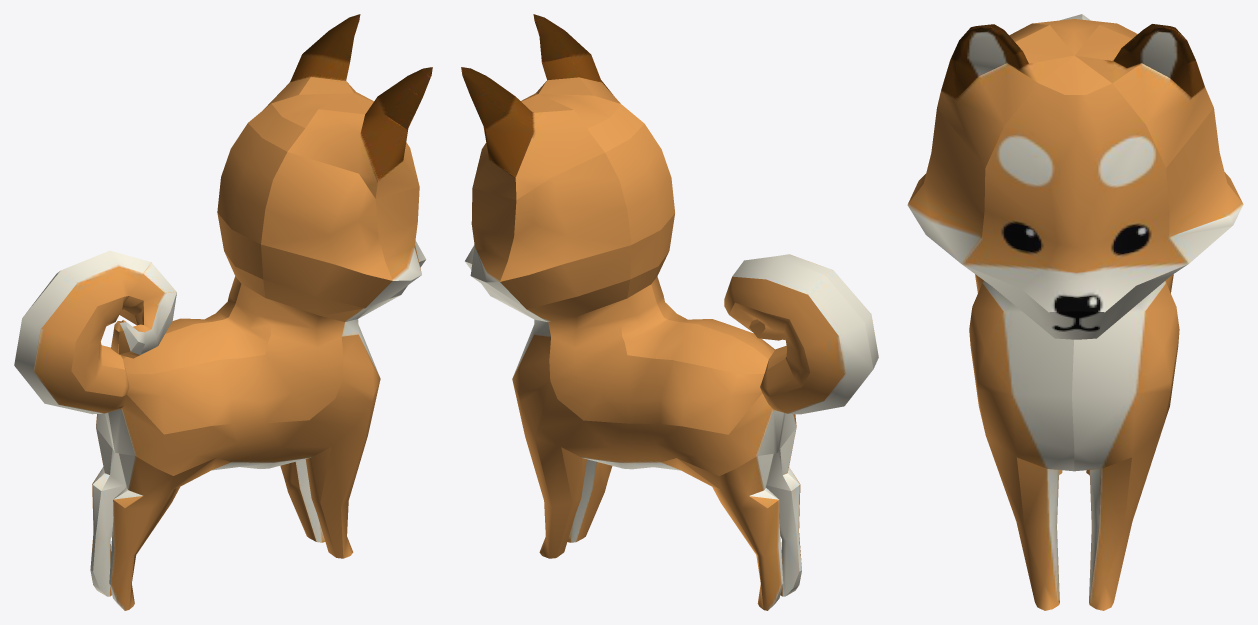
Rendered from chiba.obj.
3 renders of one model, left to right at view 1: azimuth 30°, elevation 25°; view 2: azimuth 150°, elevation 25°; view 3: azimuth 270°, elevation 25°, orthographic. The views are drawn at different scales.
Parts seen in each view (by area): view 1: BodzL1; view 2: BodzL1; view 3: BodzL1.
Boxes of the visible parts, box(x1,y1,x2,y2) form: BodzL1: box(14, 14, 432, 610); BodzL1: box(461, 14, 878, 610); BodzL1: box(907, 14, 1243, 610).
Bounding box in the file's own units: 6.81 × 7.95 × 3.91.
